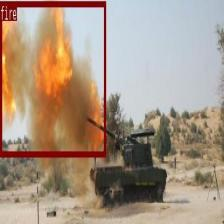fire: (0, 0, 105, 155)
